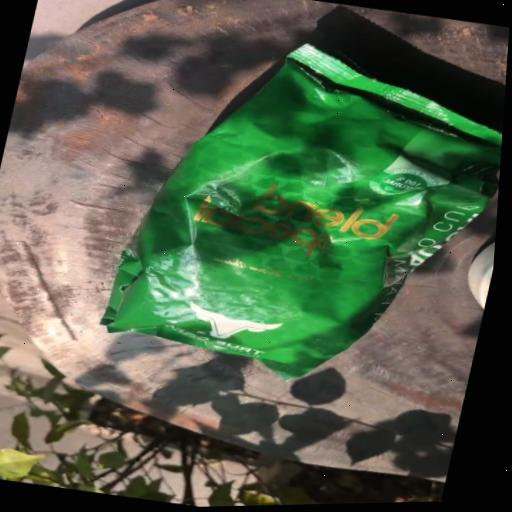cafe_xay: (101, 43, 502, 378)
